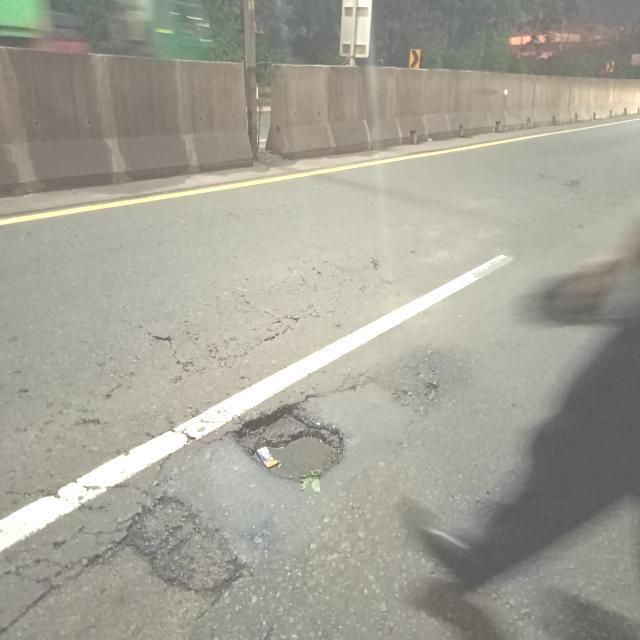Buraco: (220, 400, 348, 485)
